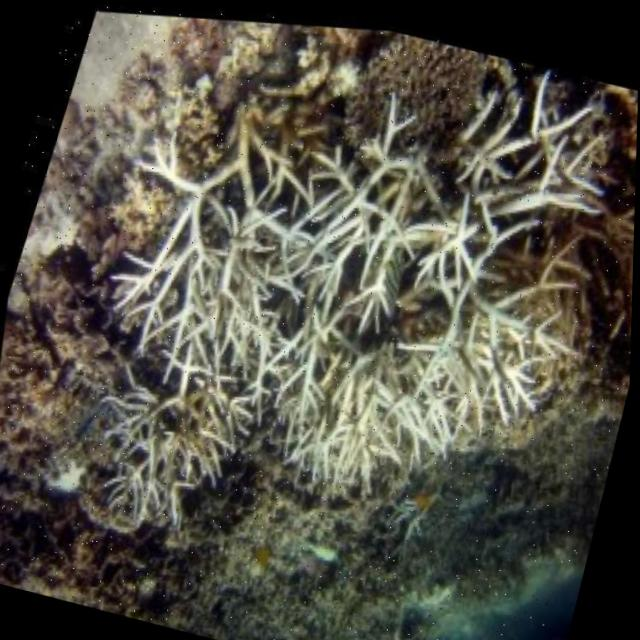Bleached Coral: (22, 1, 640, 598)
Dead Coral: (166, 520, 425, 640)
